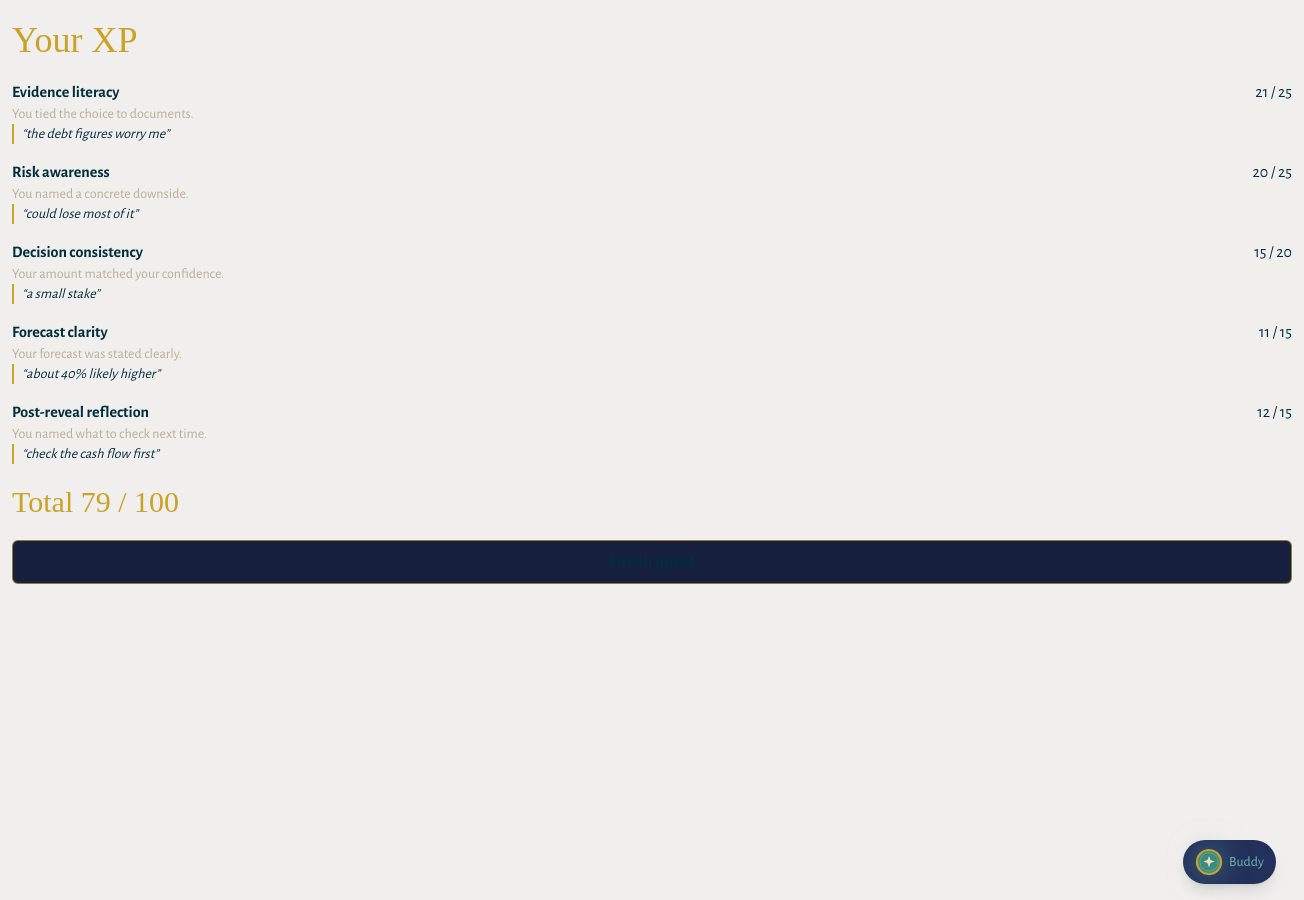
Test: Xp and finish › lists the rubric categories (25/25/20/15/15), the total, and finishes the quest
The width and height of the screenshot is (1304, 900).
Later steps or results of the test are not shown.
Expected: the text "Evidence literacy" is shown, [12,80,119,104]
Expected: the number of list items is 5, [12,80,1292,144]; [12,160,1292,224]; [12,240,1292,304]; [12,320,1292,384]; [12,400,1292,464]
Step 1. Click the button "Finish quest" → (652, 562), box [12,540,1292,584]
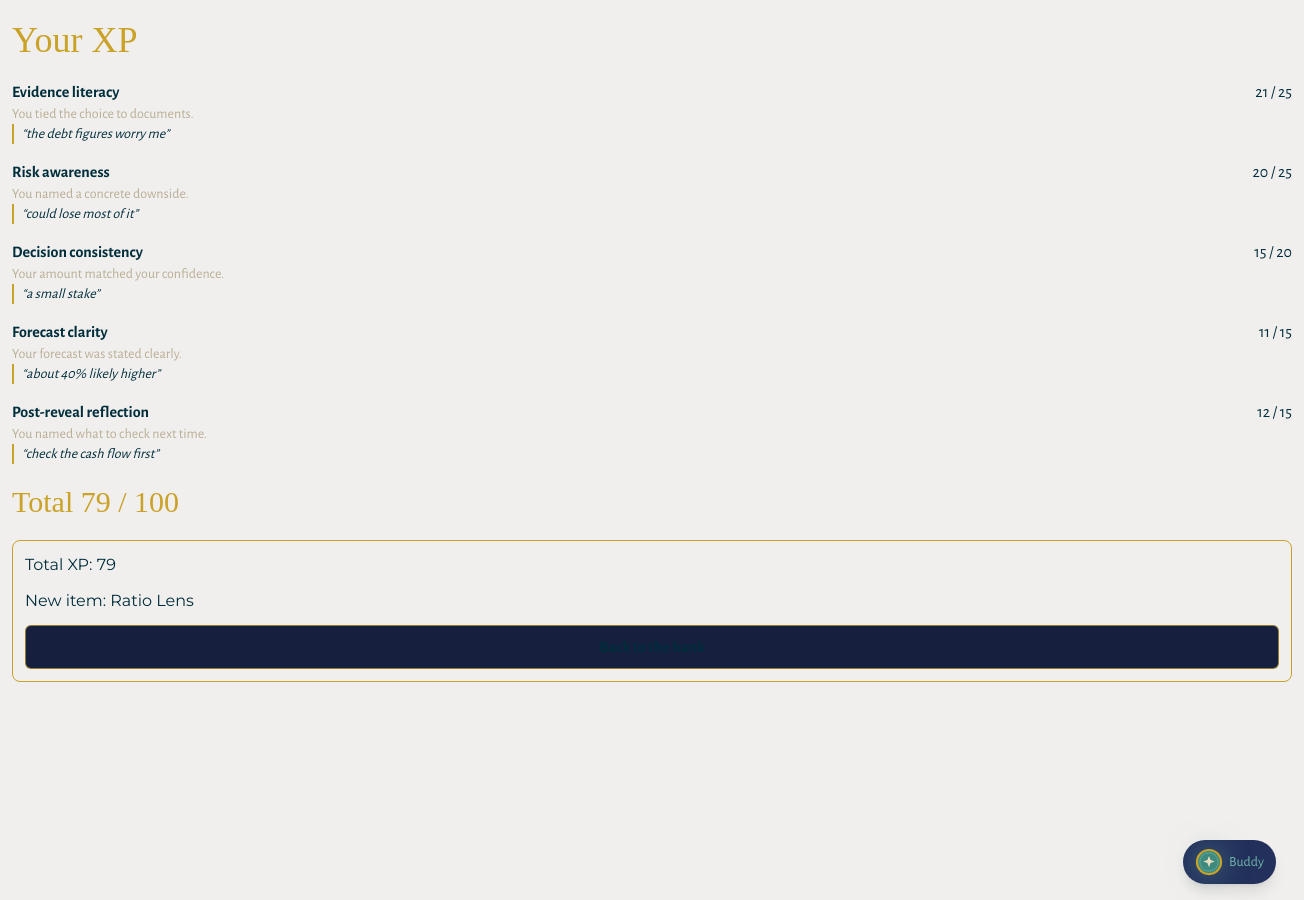
Expected: the text "Total XP: 79" is shown, [25,555,116,574]
Expected: the text "New item: Ratio Lens" is shown, [25,591,194,610]
